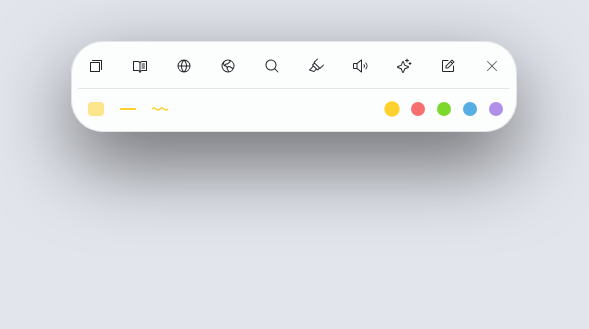
Scenario: SelectionToolbar note field › rewinds on Escape instead of saving
Step 1. Click the button named "记笔记" → {"x": 448, "y": 66}, box [430,48,466,84]
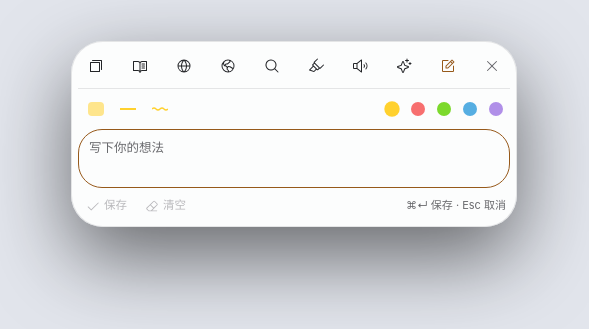
Step 2. Type "改到一半" into the text box named "笔记" → {"x": 294, "y": 158}, box [78,129,510,188]
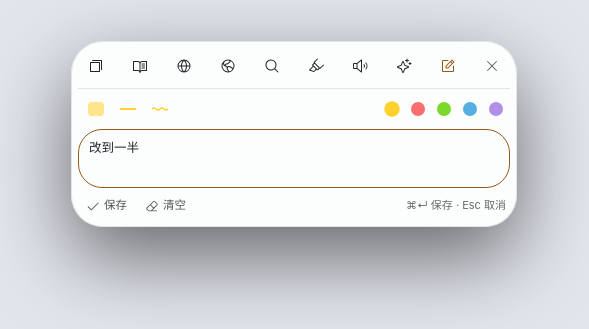
Step 3. Press Escape
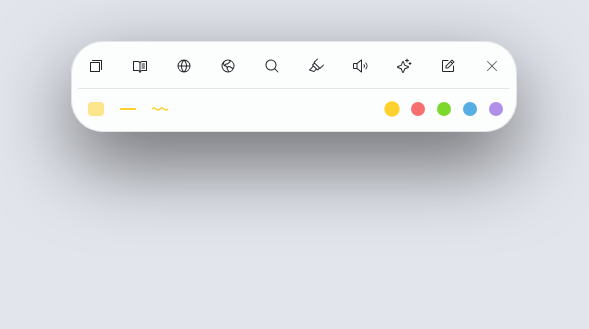
expect the text box labelled "笔记" is gone: met
